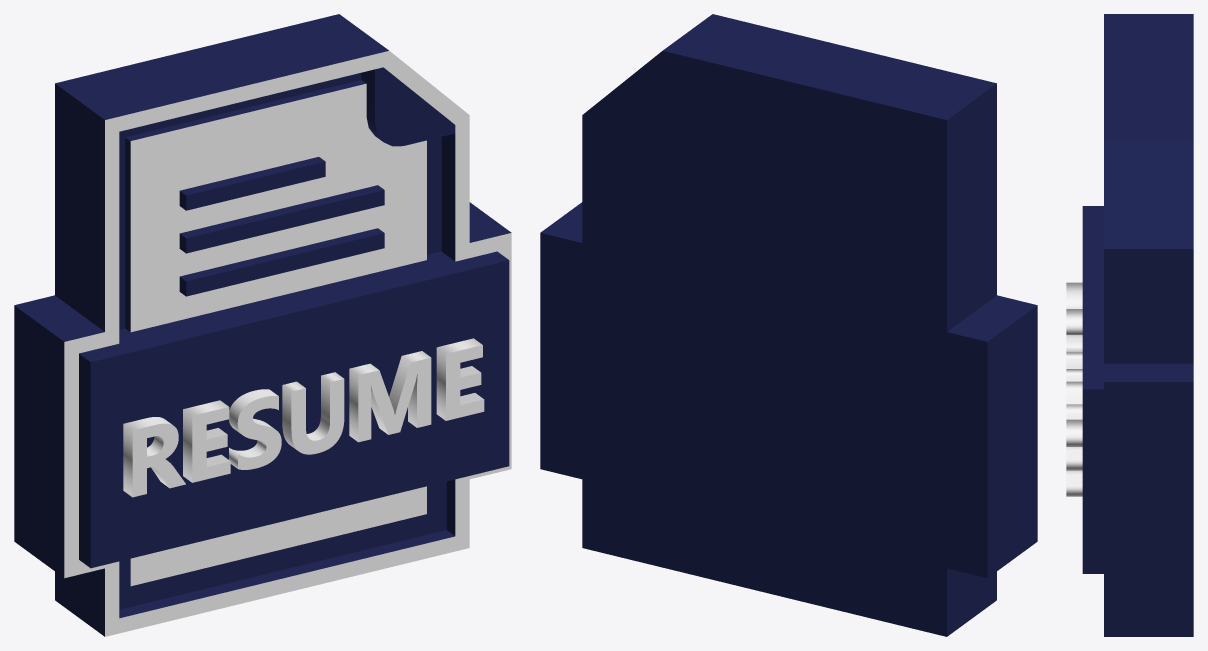
Rendered from resume.glb.
3 renders of one model, left to right at view 1: azimuth 30°, elevation 25°; view 2: azimuth 150°, elevation 25°; view 3: azimuth 270°, elevation 25°, orthographic. The views are drawn at different scales.
Parts seen in each view (by area): view 1: Plane, Text; view 2: Plane; view 3: Plane, Text.
Boxes of the visible parts, x1=… form: Plane: x1=14, y1=14, x2=511, y2=636; Text: x1=123, y1=338, x2=484, y2=497; Plane: x1=540, y1=14, x2=1037, y2=636; Plane: x1=1082, y1=14, x2=1193, y2=636; Text: x1=1066, y1=282, x2=1082, y2=496.
Size of the model in its own units: 19.98 by 22.06 by 5.51.
